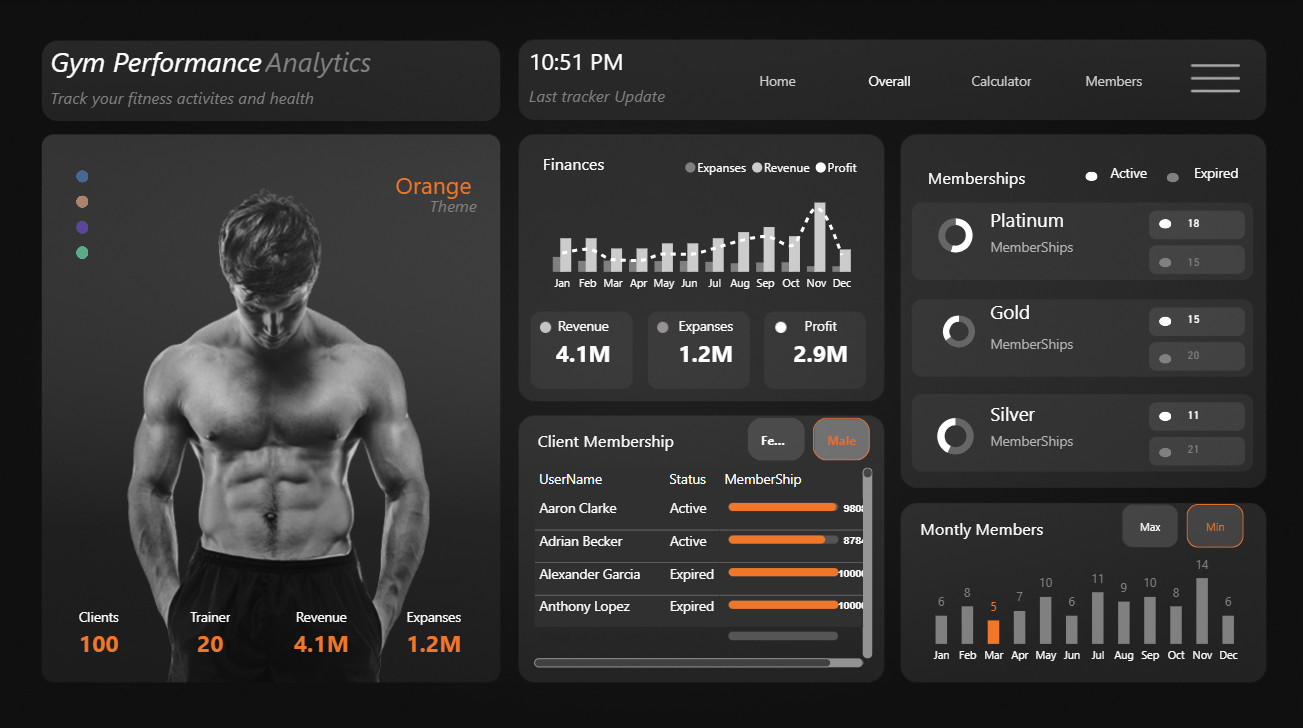

Layout of this report page (visuals, bound fields, positions):
{"tool":"powerbi","page":{"name":"Overall","canvas":[1280,720],"ordinal":1},"visuals":[{"type":"cardVisual","fields":{"Data":["_Measures.Users_Count"]},"box":[42.9,581.4,110,80],"z":0},{"type":"cardVisual","fields":{"Data":["Count(Users.Trainer Name)"]},"box":[152.9,581.4,108.6,80],"z":1000},{"type":"cardVisual","fields":{"Data":["_Measures.Revenue"]},"box":[261.4,581.4,110,80],"z":2000},{"type":"cardVisual","fields":{"Data":["_Measures.Expanses"]},"box":[371.4,581.4,110,80],"z":3000},{"type":"cardVisual","fields":{"Data":["_Measures.Revenue"]},"box":[518.7,296.4,109.8,79.6],"z":4000},{"type":"cardVisual","fields":{"Data":["_Measures.Expanses"]},"box":[639.5,296.4,109.8,79.6],"z":5000},{"type":"cardVisual","fields":{"Data":["_Measures.Profit"]},"box":[752,296.4,109.8,79.6],"z":6000},{"type":"lineClusteredColumnComboChart","fields":{"Y2":["_Measures.Profit"],"Category":["Calendar.Month"],"Y":["_Measures.Expanses","_Measures.Revenue"]},"box":[528.6,145.7,322.9,150],"z":7000},{"type":"shape","box":[533.8,145.5,94.7,28.8],"z":8000},{"type":"clusteredColumnChart","fields":{"Y":["_Measures.Users_Count"],"Category":["Calendar.Month"]},"box":[904.3,535.2,323.8,126.2],"z":9000},{"type":"shape","box":[904.3,505.7,124.3,28.6],"z":10000},{"type":"advancedSlicerVisual","fields":{"Values":["Min_Max_Switch.Type"]},"box":[1096.4,491.3,131.7,53.5],"z":11000},{"type":"tableEx","fields":{"Values":["Users.UserName","Users.Status","_Measures.SVG_BarChart1"]},"box":[518.7,455.6,343.1,205.8],"z":12000},{"type":"shape","box":[528.3,418.5,156.4,28.8],"z":13000},{"type":"shape","box":[972.9,390.8,156.4,31.6],"z":14000},{"type":"shape","box":[972.9,292,156.4,28.8],"z":15000},{"type":"shape","box":[972.9,201.4,156.4,28.8],"z":16000},{"type":"shape","box":[972.9,422.4,146,22],"z":17000},{"type":"shape","box":[972.9,326.3,146,22],"z":18000},{"type":"shape","box":[972.9,231.6,146,22],"z":19000},{"type":"donutChart","fields":{"Y":["_Measures.User_Gold"],"Category":["Users.Status"]},"box":[911.2,400.7,54.9,56.3],"z":20000},{"type":"donutChart","fields":{"Y":["_Measures.User_Silver"],"Category":["Users.Status"]},"box":[911.2,301.9,61.7,49.4],"z":21000},{"type":"donutChart","fields":{"Y":["_Measures.User_Platinum"],"Category":["Users.Status"]},"box":[911.2,205.8,54.9,52.1],"z":22000},{"type":"card","fields":{"Values":["_Measures.Platinum_Active"]},"box":[1129.3,207.2,87.8,26.1],"z":23000},{"type":"card","fields":{"Values":["_Measures.Gold_Active"]},"box":[1129.3,301.9,87.8,26.1],"z":24000},{"type":"card","fields":{"Values":["_Measures.Silver_Active"]},"box":[1129.3,396.6,87.8,26.1],"z":25000},{"type":"card","fields":{"Values":["_Measures.Platinum_Experied"]},"box":[1129.3,245.6,87.8,26.1],"z":26000},{"type":"card","fields":{"Values":["_Measures.Gold_Experied"]},"box":[1129.3,337.6,87.8,26.1],"z":27000},{"type":"card","fields":{"Values":["_Measures.Silver_Experied"]},"box":[1129.3,429.5,87.8,26.1],"z":28000},{"type":"shape","box":[1138.9,215.4,12.3,9.6],"z":29000},{"type":"shape","box":[1138.9,311.5,12.3,9.6],"z":30000},{"type":"shape","box":[1138.9,404.8,12.3,9.6],"z":31000},{"type":"shape","box":[1138.9,253.9,12.3,9.6],"z":32000},{"type":"shape","box":[1138.9,348.5,12.3,9.6],"z":33000},{"type":"shape","box":[1138.9,440.5,12.3,9.6],"z":34000},{"type":"shape","box":[911.2,160.5,118,27.4],"z":35000},{"type":"shape","box":[1066.2,168.8,12.3,9.6],"z":36000},{"type":"shape","box":[1145.8,170.2,12.3,9.6],"z":37000},{"type":"shape","box":[1090.9,156.4,54.9,28.8],"z":38000},{"type":"shape","box":[1173.2,156.4,54.9,28.8],"z":39000},{"type":"shape","box":[50.8,81,266.2,28.8],"z":42000},{"type":"image","box":[1152.7,49.4,86.4,60.4],"z":43000},{"type":"shape","box":[520.1,39.8,119.4,41.2],"z":44000},{"type":"shape","box":[520.1,79.6,148.2,28.8],"z":45000},{"type":"advancedSlicerVisual","fields":{"Values":["Slider_Gender.Category"]},"box":[730,406.2,131.7,52.1],"z":46000},{"type":"pageNavigator","box":[713.6,54.9,432.2,49.4],"z":47000},{"type":"advancedSlicerVisual","fields":{"Values":["ColorCodes.Icon"]},"box":[65.9,160.5,31.6,102.9],"z":48000},{"type":"shape","box":[366.4,160.5,119.4,41.2],"z":49000},{"type":"shape","box":[371.9,188,148.2,28.8],"z":50000},{"type":"shape","box":[50.3,39.3,211,41.7],"z":50001},{"type":"shape","box":[261.4,39.3,120.2,41.7],"z":50002}]}

Visuals, with their boxes in screenshot pixels (x1, y1, x2, y2), scaled from the page's 1280x720 canvas onto the 1303x728 screenshot:
cardVisual - _Measures.Users_Count: detection(44, 588, 156, 669)
cardVisual - Count(Users.Trainer Name): detection(156, 588, 266, 669)
cardVisual - _Measures.Revenue: detection(266, 588, 378, 669)
cardVisual - _Measures.Expanses: detection(378, 588, 490, 669)
cardVisual - _Measures.Revenue: detection(528, 300, 640, 380)
cardVisual - _Measures.Expanses: detection(651, 300, 763, 380)
cardVisual - _Measures.Profit: detection(766, 300, 877, 380)
lineClusteredColumnComboChart - _Measures.Profit x Calendar.Month: detection(538, 147, 867, 299)
shape: detection(543, 147, 640, 176)
clusteredColumnChart - _Measures.Users_Count x Calendar.Month: detection(921, 541, 1250, 669)
shape: detection(921, 511, 1047, 540)
advancedSlicerVisual - Min_Max_Switch.Type: detection(1116, 497, 1250, 551)
tableEx - Users.UserName x Users.Status: detection(528, 461, 877, 669)
shape: detection(538, 423, 697, 452)
shape: detection(990, 395, 1150, 427)
shape: detection(990, 295, 1150, 324)
shape: detection(990, 204, 1150, 233)
shape: detection(990, 427, 1139, 449)
shape: detection(990, 330, 1139, 352)
shape: detection(990, 234, 1139, 256)
donutChart - _Measures.User_Gold x Users.Status: detection(928, 405, 983, 462)
donutChart - _Measures.User_Silver x Users.Status: detection(928, 305, 990, 355)
donutChart - _Measures.User_Platinum x Users.Status: detection(928, 208, 983, 261)
card - _Measures.Platinum_Active: detection(1150, 210, 1239, 236)
card - _Measures.Gold_Active: detection(1150, 305, 1239, 332)
card - _Measures.Silver_Active: detection(1150, 401, 1239, 427)
card - _Measures.Platinum_Experied: detection(1150, 248, 1239, 275)
card - _Measures.Gold_Experied: detection(1150, 341, 1239, 368)
card - _Measures.Silver_Experied: detection(1150, 434, 1239, 461)
shape: detection(1159, 218, 1172, 228)
shape: detection(1159, 315, 1172, 325)
shape: detection(1159, 409, 1172, 419)
shape: detection(1159, 257, 1172, 266)
shape: detection(1159, 352, 1172, 362)
shape: detection(1159, 445, 1172, 455)
shape: detection(928, 162, 1048, 190)
shape: detection(1085, 171, 1098, 180)
shape: detection(1166, 172, 1179, 182)
shape: detection(1111, 158, 1166, 187)
shape: detection(1194, 158, 1250, 187)
shape: detection(52, 82, 323, 111)
image: detection(1173, 50, 1261, 111)
shape: detection(529, 40, 651, 82)
shape: detection(529, 80, 680, 110)
advancedSlicerVisual - Slider_Gender.Category: detection(743, 411, 877, 463)
pageNavigator: detection(726, 56, 1166, 105)
advancedSlicerVisual - ColorCodes.Icon: detection(67, 162, 99, 266)
shape: detection(373, 162, 495, 204)
shape: detection(379, 190, 529, 219)
shape: detection(51, 40, 266, 82)
shape: detection(266, 40, 388, 82)
